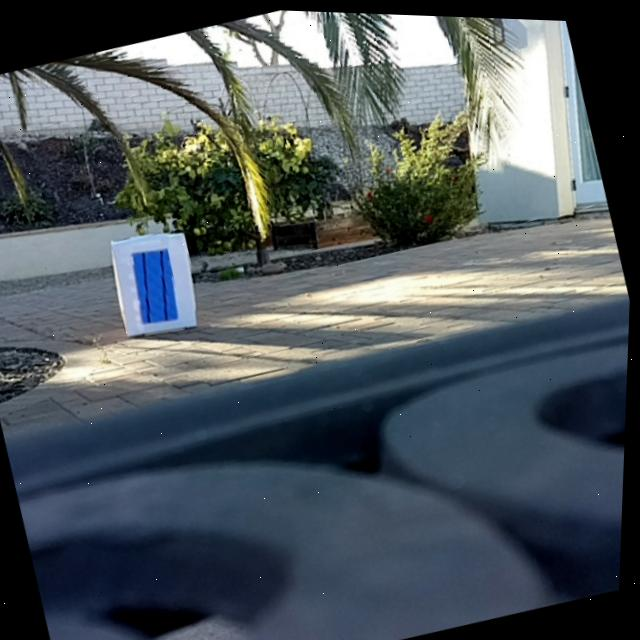led: (128, 242, 187, 328)
